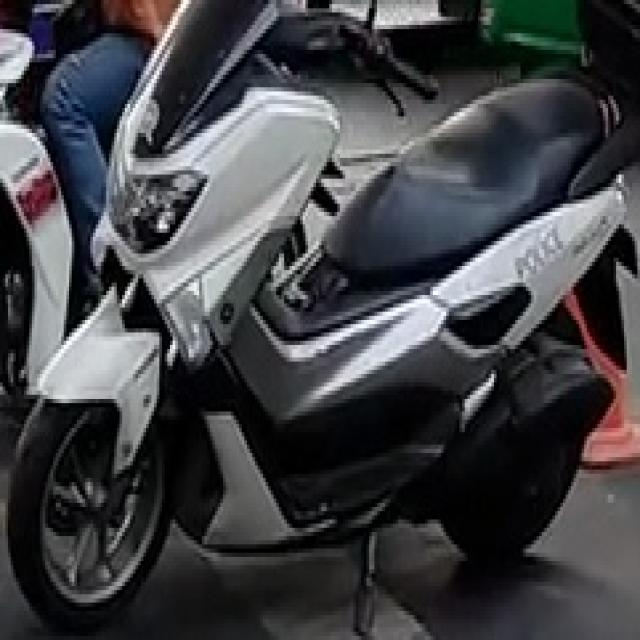helmet: (5, 0, 638, 632)
tyre: (5, 386, 173, 632)
